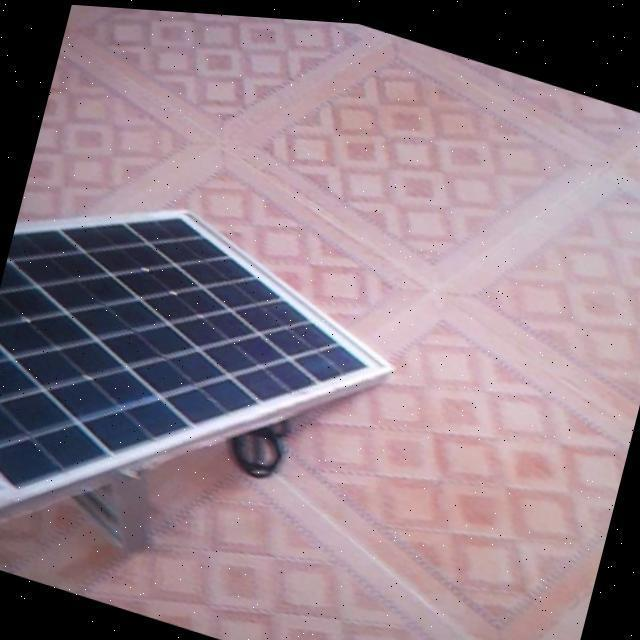Normal Solar Panel: (0, 159, 413, 621)
